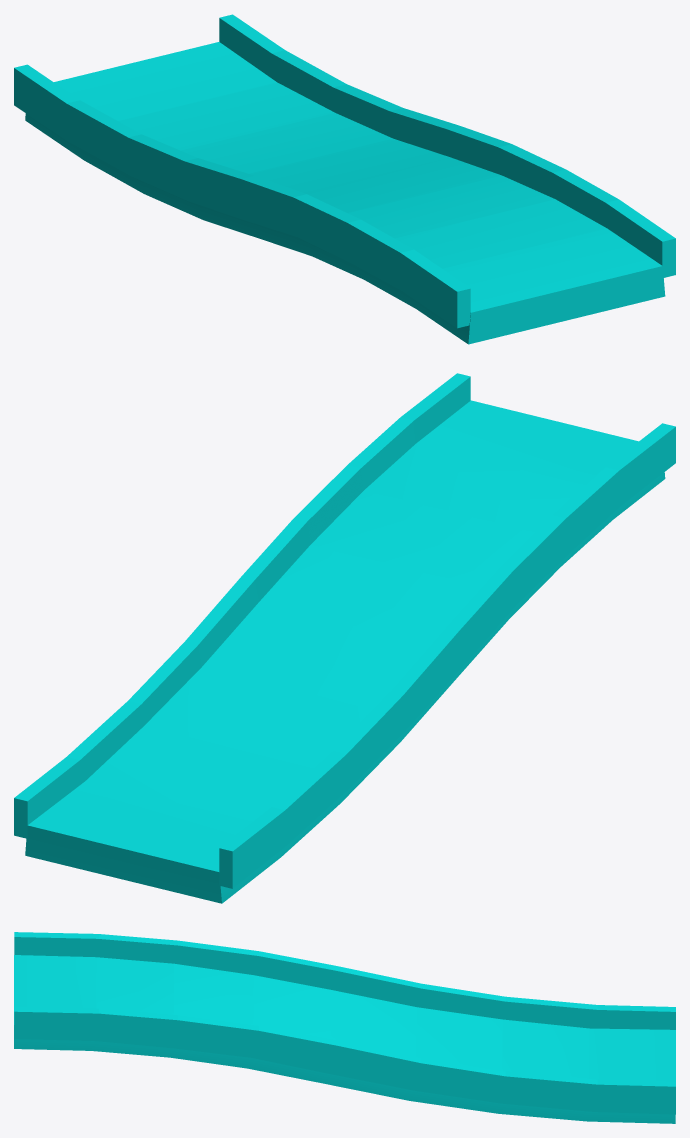
Rendered from SM_Env_Road_Highway_Ramp_02_Collision.fbx.
The picture shows the model from 3 angles, top to bottom: view 1: azimuth 30°, elevation 25°; view 2: azimuth 150°, elevation 25°; view 3: azimuth 270°, elevation 25°; orthographic projection. The views are drawn at different scales.
Visible parts, largest first — view 1: SM_Env_Road_Highway_Ramp_02_Collision; view 2: SM_Env_Road_Highway_Ramp_02_Collision; view 3: SM_Env_Road_Highway_Ramp_02_Collision.
Part boxes in pixels (x1=…): SM_Env_Road_Highway_Ramp_02_Collision: x1=14, y1=14, x2=675, y2=344; SM_Env_Road_Highway_Ramp_02_Collision: x1=14, y1=373, x2=675, y2=903; SM_Env_Road_Highway_Ramp_02_Collision: x1=14, y1=932, x2=675, y2=1123.
Size of the model in its own units: 1140 by 775 by 4002.
